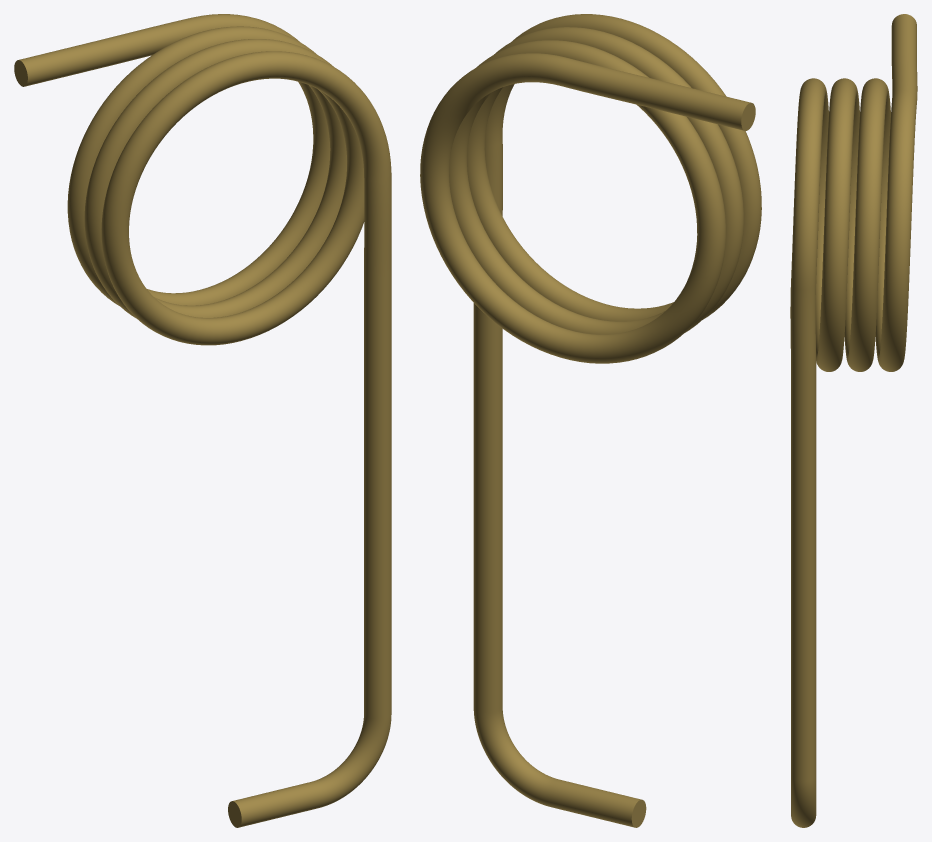
File: child-candidate.glb
The picture shows the model from 3 angles, left to right: view 1: azimuth 30°, elevation 25°; view 2: azimuth 150°, elevation 25°; view 3: azimuth 270°, elevation 25°; orthographic projection. The views are drawn at different scales.
Parts seen in each view (by area): view 1: PEDAL_TORSION_SPRING_LARGE_COILS_UNEQUAL_LEGS_AND_UPTURN; view 2: PEDAL_TORSION_SPRING_LARGE_COILS_UNEQUAL_LEGS_AND_UPTURN; view 3: PEDAL_TORSION_SPRING_LARGE_COILS_UNEQUAL_LEGS_AND_UPTURN.
Part boxes in pixels (x1,y1,x2,y2): PEDAL_TORSION_SPRING_LARGE_COILS_UNEQUAL_LEGS_AND_UPTURN: (14, 14, 391, 827); PEDAL_TORSION_SPRING_LARGE_COILS_UNEQUAL_LEGS_AND_UPTURN: (420, 14, 761, 827); PEDAL_TORSION_SPRING_LARGE_COILS_UNEQUAL_LEGS_AND_UPTURN: (790, 14, 917, 827).
Bounding box in the file's own units: 0.0395 × 0.092 × 0.0151.
